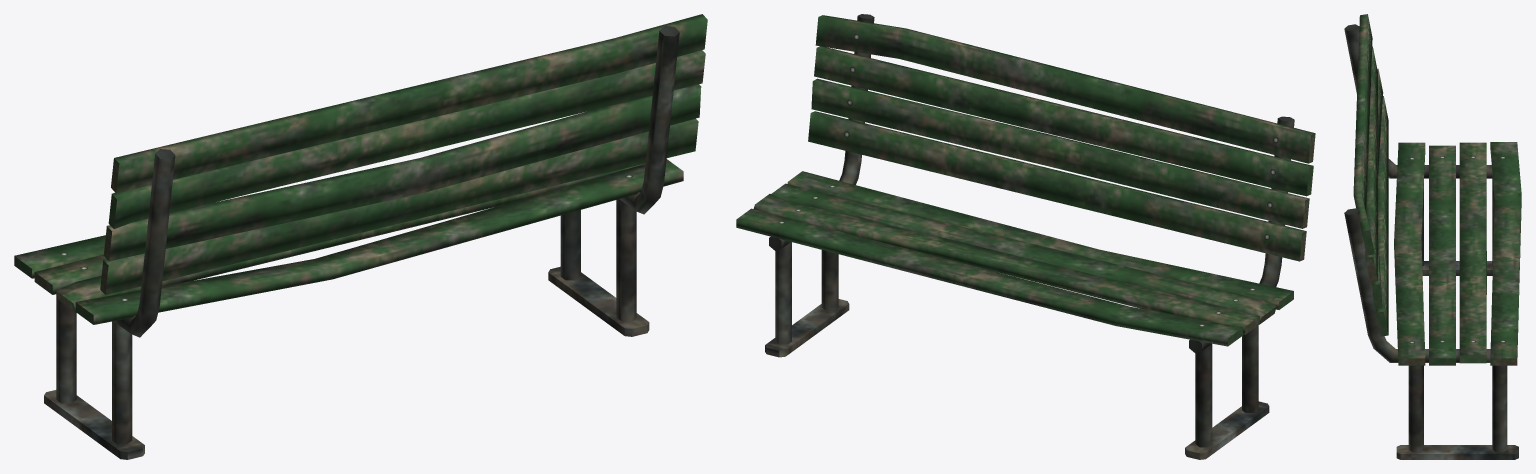
Rendered from Bench.obj.
3 views of the same model, side by side, from view 1: azimuth 30°, elevation 25°; view 2: azimuth 150°, elevation 25°; view 3: azimuth 270°, elevation 25° (orthographic). The views are drawn at different scales.
Parts seen in each view (by area): view 1: __PrenotatoPerDuplicare_0; view 2: __PrenotatoPerDuplicare_0; view 3: __PrenotatoPerDuplicare_0.
Boxes of the visible parts, x1,y1,x2,y2 form: __PrenotatoPerDuplicare_0: [14, 14, 707, 459]; __PrenotatoPerDuplicare_0: [736, 14, 1315, 459]; __PrenotatoPerDuplicare_0: [1344, 14, 1521, 459].
Size of the model in its own units: 125 by 66.26 by 43.49.
